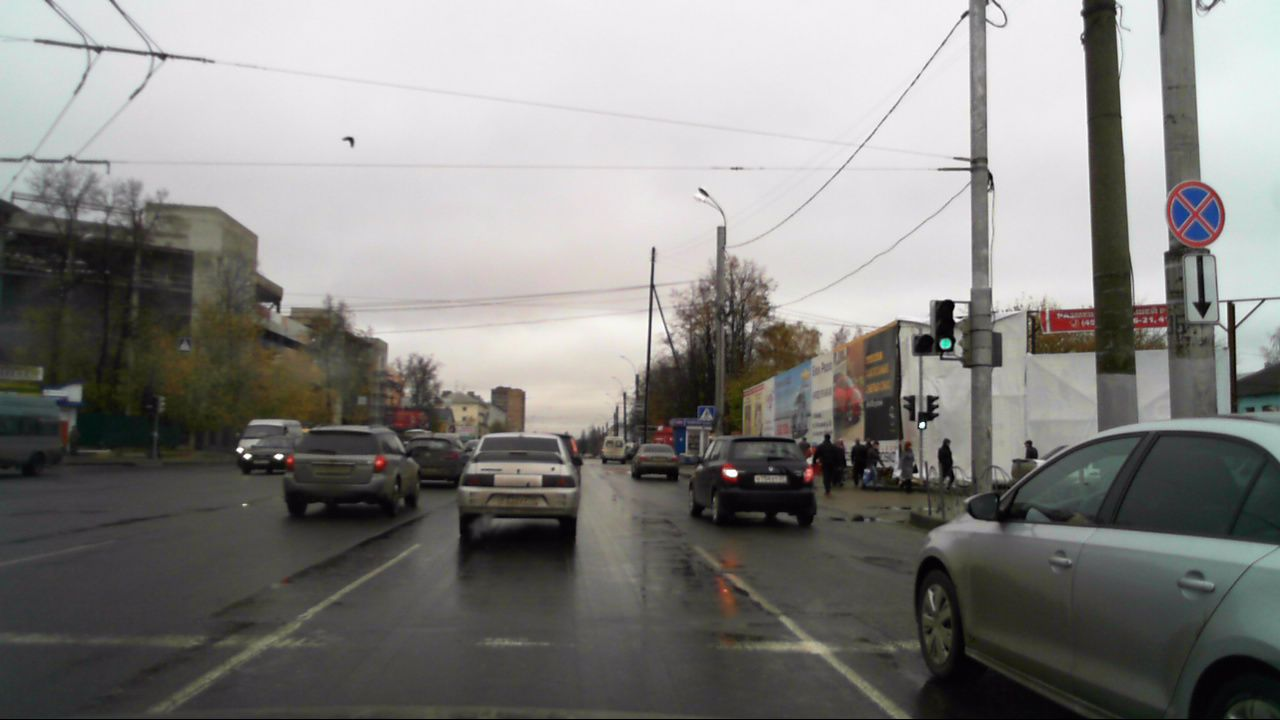No Parking: (1164, 180, 1226, 248)
